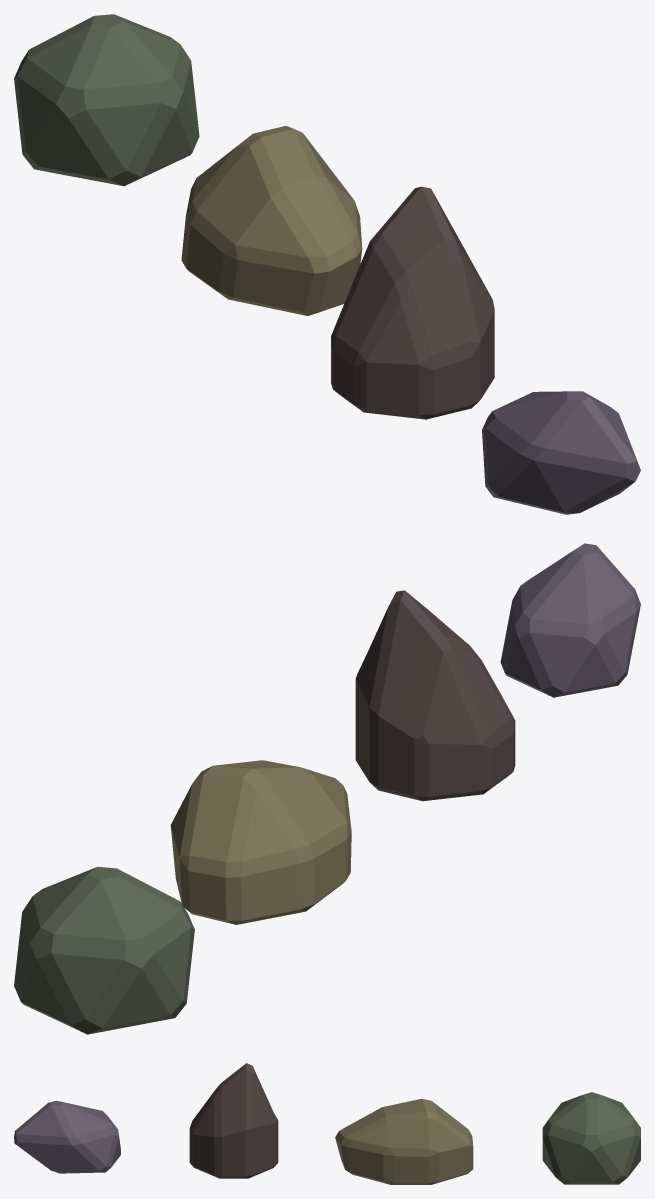
File: rocks.fbx
The picture shows the model from 3 angles, top to bottom: view 1: azimuth 30°, elevation 25°; view 2: azimuth 150°, elevation 25°; view 3: azimuth 270°, elevation 25°; orthographic projection. The views are drawn at different scales.
Visible parts, largest first — view 1: Cube, Cube.001, Icosphere.001, Icosphere; view 2: Cube.001, Cube, Icosphere.001, Icosphere; view 3: Cube.001, Cube, Icosphere.001, Icosphere.
Boxes of the visible parts, box(x1,y1,x2,y2) form: Cube: box(331, 186, 494, 419); Cube.001: box(181, 126, 362, 315); Icosphere.001: box(14, 14, 199, 186); Icosphere: box(482, 391, 640, 514); Cube.001: box(170, 760, 351, 924); Cube: box(355, 590, 515, 801); Icosphere.001: box(14, 866, 194, 1034); Icosphere: box(500, 543, 640, 697); Cube.001: box(335, 1099, 473, 1184); Cube: box(189, 1063, 278, 1178); Icosphere.001: box(542, 1092, 640, 1184); Icosphere: box(14, 1100, 120, 1173).
Size of the model in its own units: 241 by 266 by 1417.
